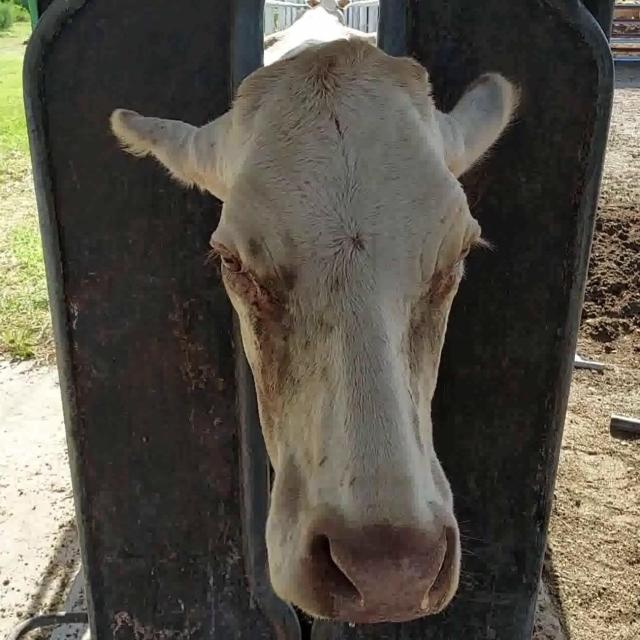cowFace: (210, 34, 483, 620)
